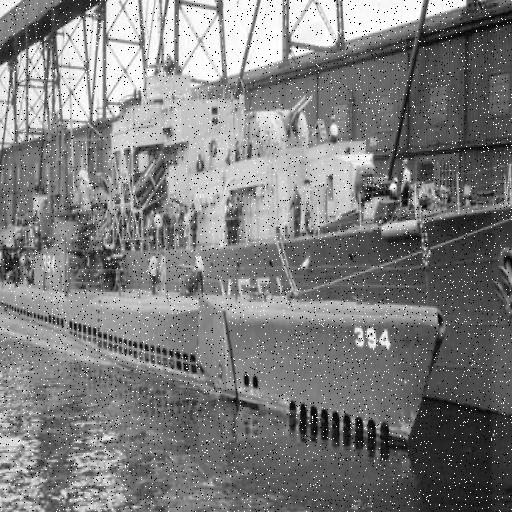submarine: (1, 220, 447, 457)
